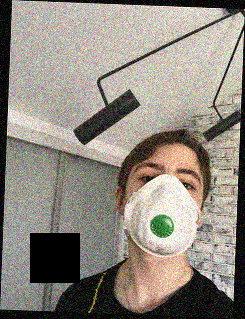with_mask: (123, 153, 202, 257)
